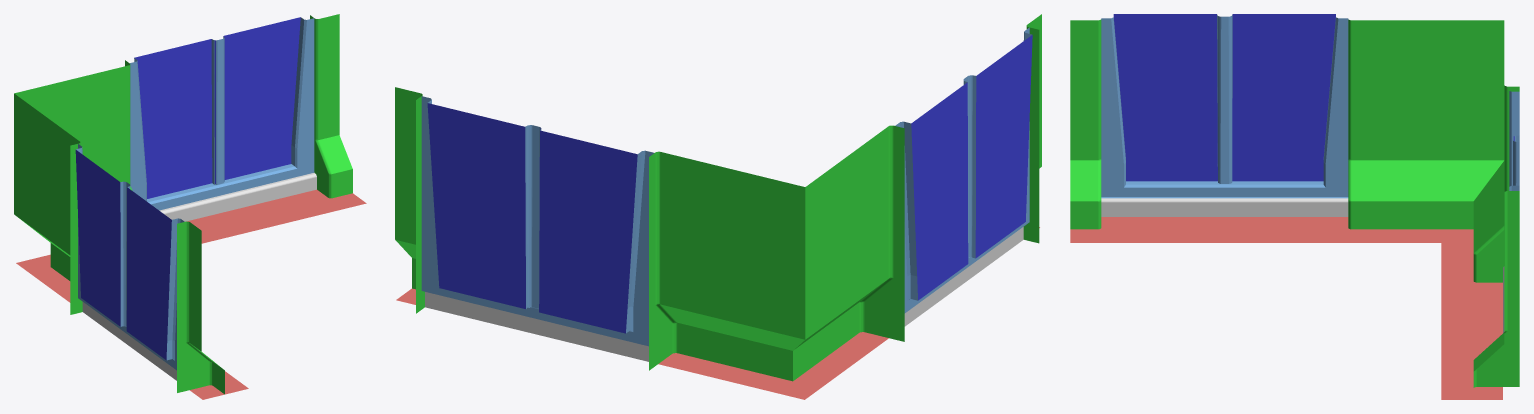
The model's file is Corner_Wall.fbx.
3 renders of one model, left to right at view 1: azimuth 30°, elevation 25°; view 2: azimuth 150°, elevation 25°; view 3: azimuth 270°, elevation 25°, orthographic. The views are drawn at different scales.
Parts seen in each view (by area): view 1: Wall.008; view 2: Wall.008; view 3: Wall.008.
Boxes of the visible parts, left/top/right/bottom form: Wall.008: left=14, top=14, right=366, bottom=399; Wall.008: left=395, top=14, right=1041, bottom=399; Wall.008: left=1070, top=14, right=1519, bottom=399.
Bounding box in the file's own units: 1455 × 700 × 1453.
